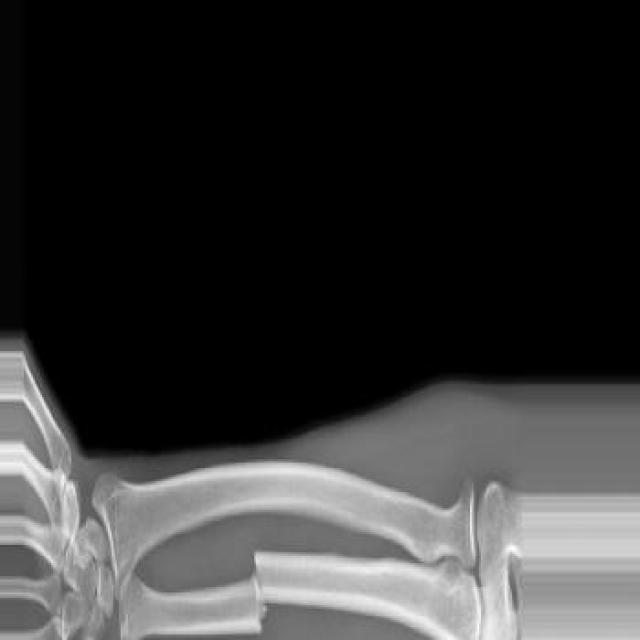Fracture: (248, 541, 270, 639)
